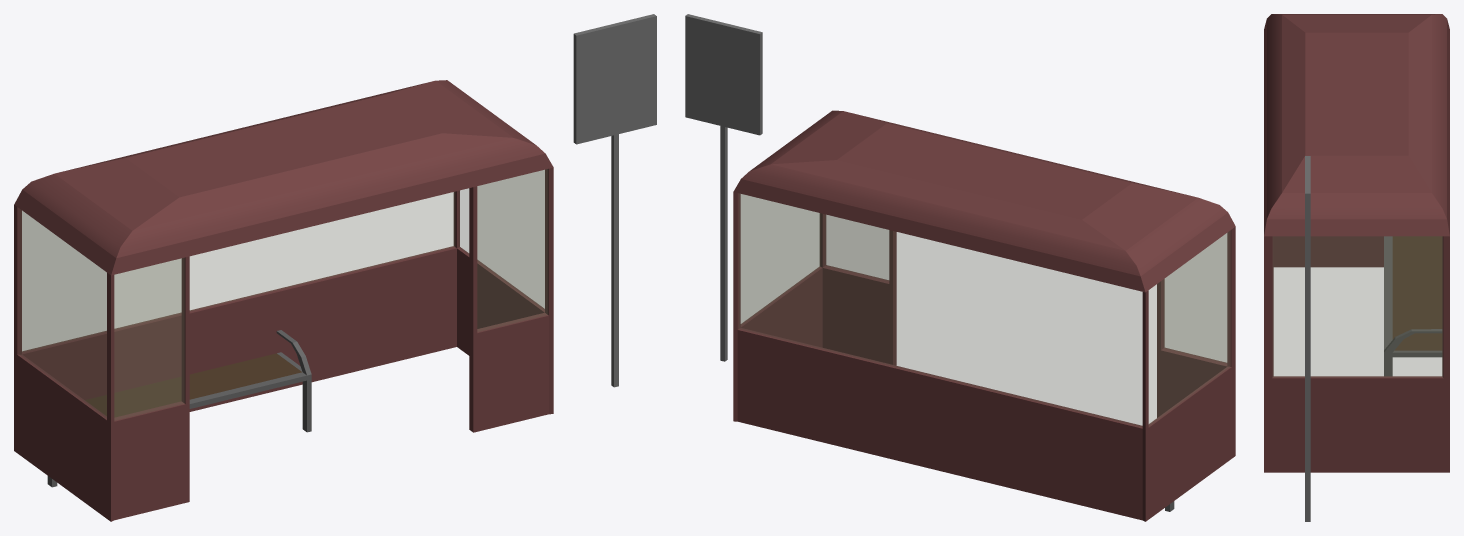
The model's file is Busshålplats.fbx.
3 views of the same model, side by side, from view 1: azimuth 30°, elevation 25°; view 2: azimuth 150°, elevation 25°; view 3: azimuth 270°, elevation 25° (orthographic). The views are drawn at different scales.
Visible parts, largest first — view 1: pCube1, pCube6, pCube5, pCube2, pCube8, pCube7, pCube4, pCube3; view 2: pCube1, pCube6, pCube5, pCube2, pCube4, pCube7, pCube8; view 3: pCube1, pCube4, pCube3, pCube2.
Boxes of the visible parts, left/top/right/bottom form: pCube1: left=14, top=80, right=553, bottom=521; pCube6: left=22, top=192, right=454, bottom=351; pCube5: left=18, top=208, right=106, bottom=418; pCube2: left=573, top=14, right=656, bottom=387; pCube8: left=477, top=169, right=547, bottom=331; pCube7: left=114, top=258, right=184, bottom=420; pCube4: left=459, top=170, right=544, bottom=308; pCube3: left=47, top=330, right=311, bottom=487; pCube1: left=733, top=110, right=1235, bottom=521; pCube6: left=739, top=193, right=1142, bottom=426; pCube5: left=1149, top=231, right=1230, bottom=425; pCube2: left=685, top=14, right=762, bottom=361; pCube4: left=741, top=194, right=819, bottom=323; pCube7: left=1164, top=233, right=1226, bottom=362; pCube8: left=826, top=215, right=888, bottom=280; pCube1: left=1264, top=14, right=1449, bottom=472; pCube4: left=1273, top=236, right=1442, bottom=377; pCube3: left=1384, top=236, right=1442, bottom=376; pCube2: left=1305, top=156, right=1310, bottom=521.
Size of the model in its own units: 22.98 by 14.37 by 6.8.
